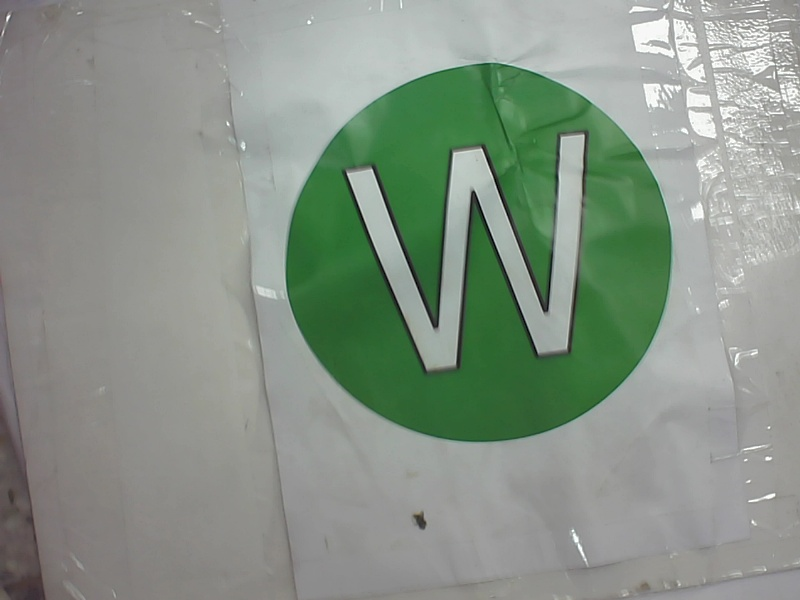areaB: (270, 45, 687, 458)
